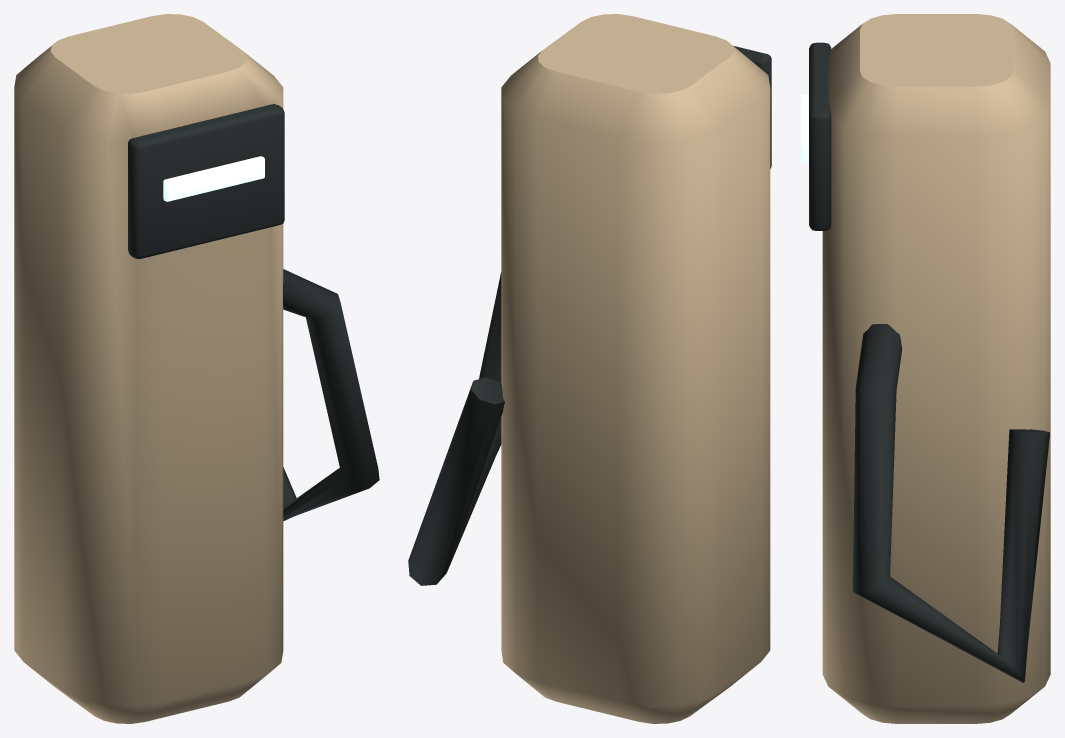
Rendered from charger.glb.
The picture shows the model from 3 angles, left to right: view 1: azimuth 30°, elevation 25°; view 2: azimuth 150°, elevation 25°; view 3: azimuth 270°, elevation 25°; orthographic projection.
Parts seen in each view (by area): view 1: Charger; view 2: Charger; view 3: Charger.
Boxes of the visible parts, left/top/right/bottom form: Charger: left=14, top=14, right=379, bottom=723; Charger: left=408, top=14, right=771, bottom=723; Charger: left=800, top=14, right=1050, bottom=723.
Bounding box in the file's own units: 0.7588 × 1.51 × 0.538.
